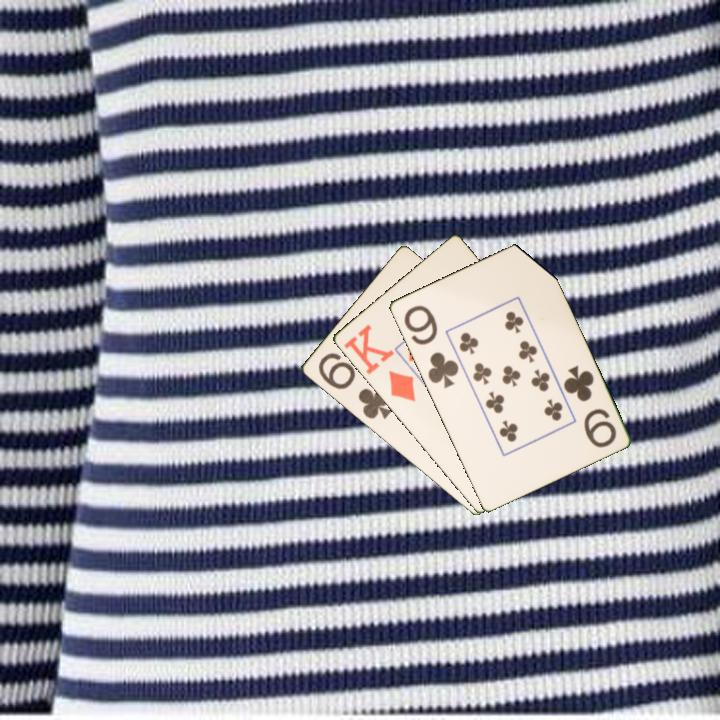6c: (314, 349, 394, 422)
9c: (400, 301, 461, 391), (559, 362, 619, 451)
Kd: (340, 320, 418, 405)
